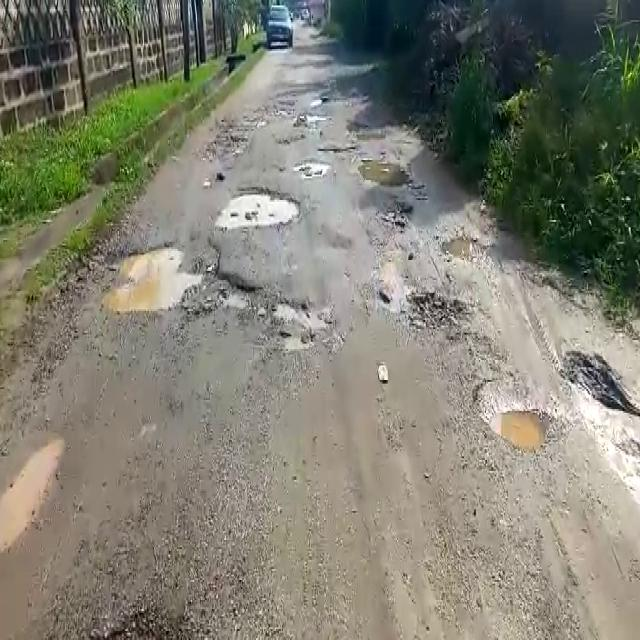Pothole: (92, 237, 256, 316), (0, 438, 67, 554), (471, 378, 556, 452), (559, 350, 640, 418), (216, 186, 304, 232), (272, 301, 340, 354), (404, 288, 471, 334), (440, 233, 491, 264), (358, 159, 411, 186), (295, 158, 332, 176), (316, 140, 358, 154)
